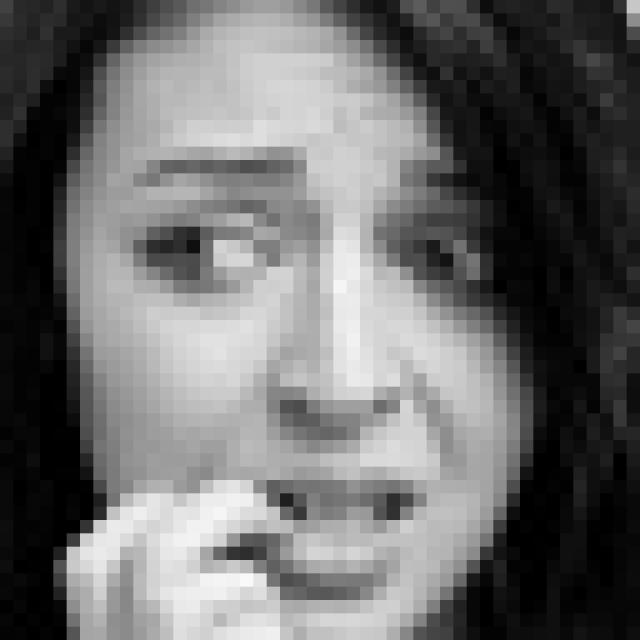fear: (109, 149, 497, 608)
